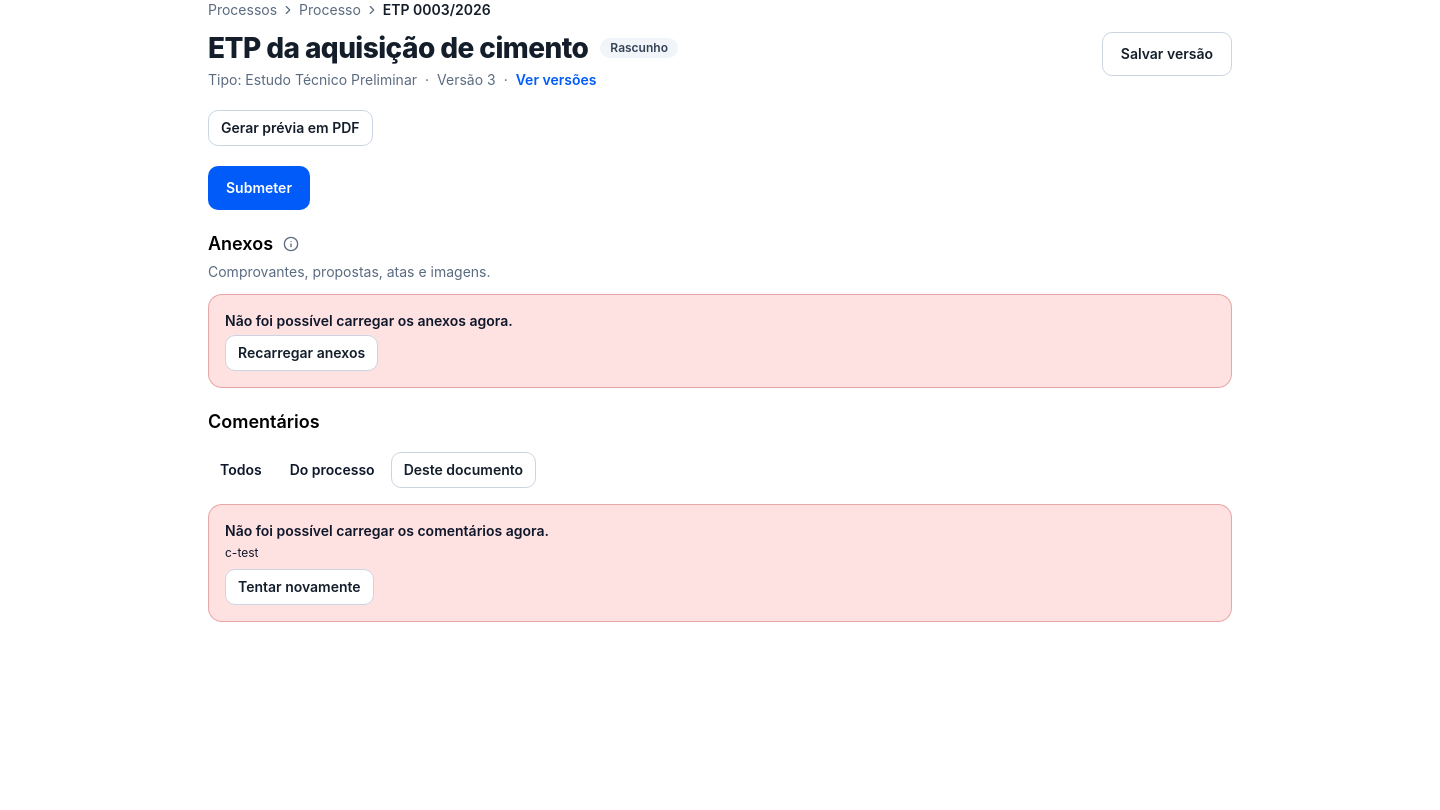
SCR-105 · Salvar versão (DOC-16) › documento não editável (409): toast com o motivo e o diálogo fecha
The width and height of the screenshot is (1440, 810).
expect the heading "ETP da aquisição de cimento" is shown: met, box 208,32 -> 588,64
What coordinates should you click on to do the following:
click the button "Salvar versão"
I would click on:
 (1167, 54)
Its box is 1102,32 -> 1232,76.
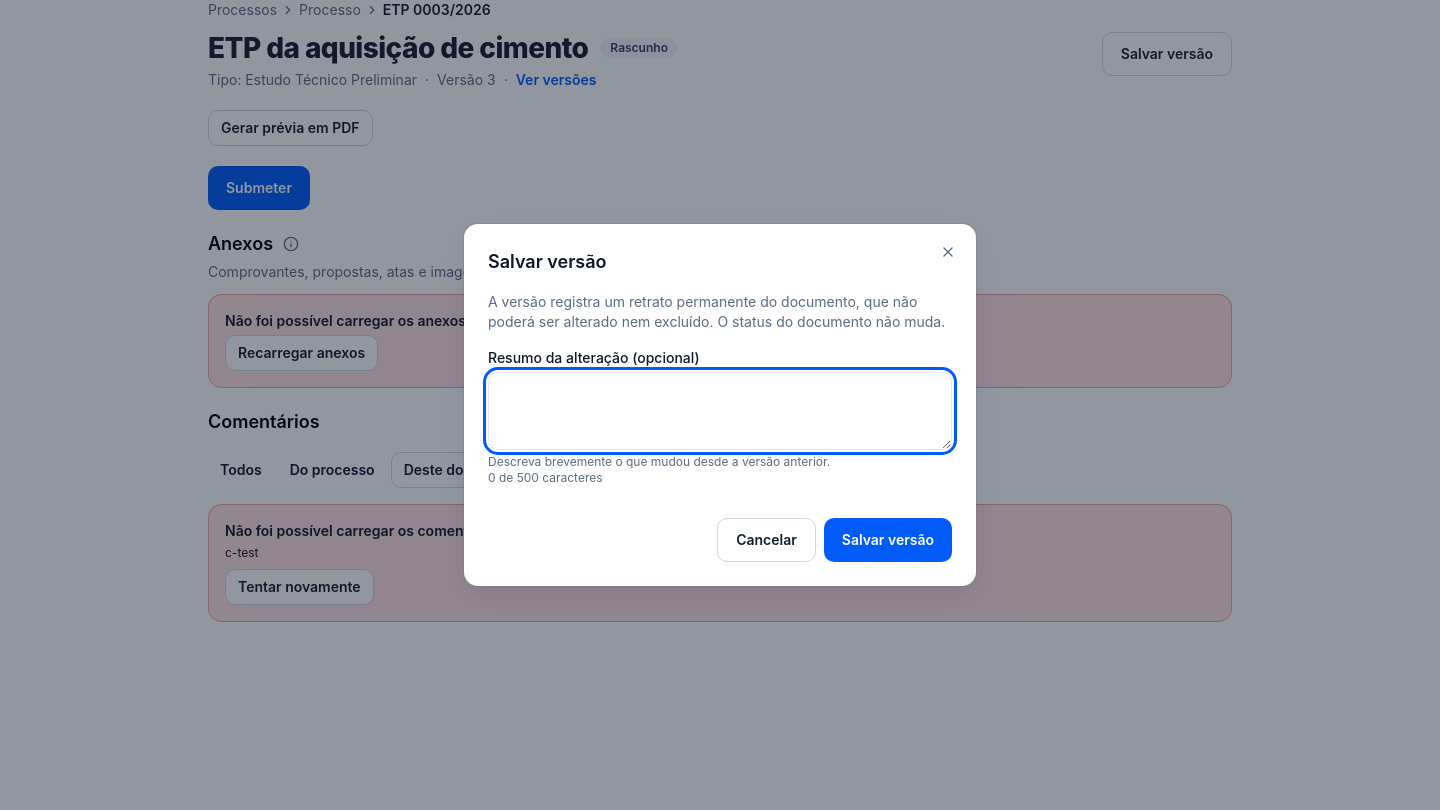
What coordinates should you click on to do the following:
click the button "Salvar versão"
I would click on:
 (888, 540)
Its box is 824,518 -> 952,562.
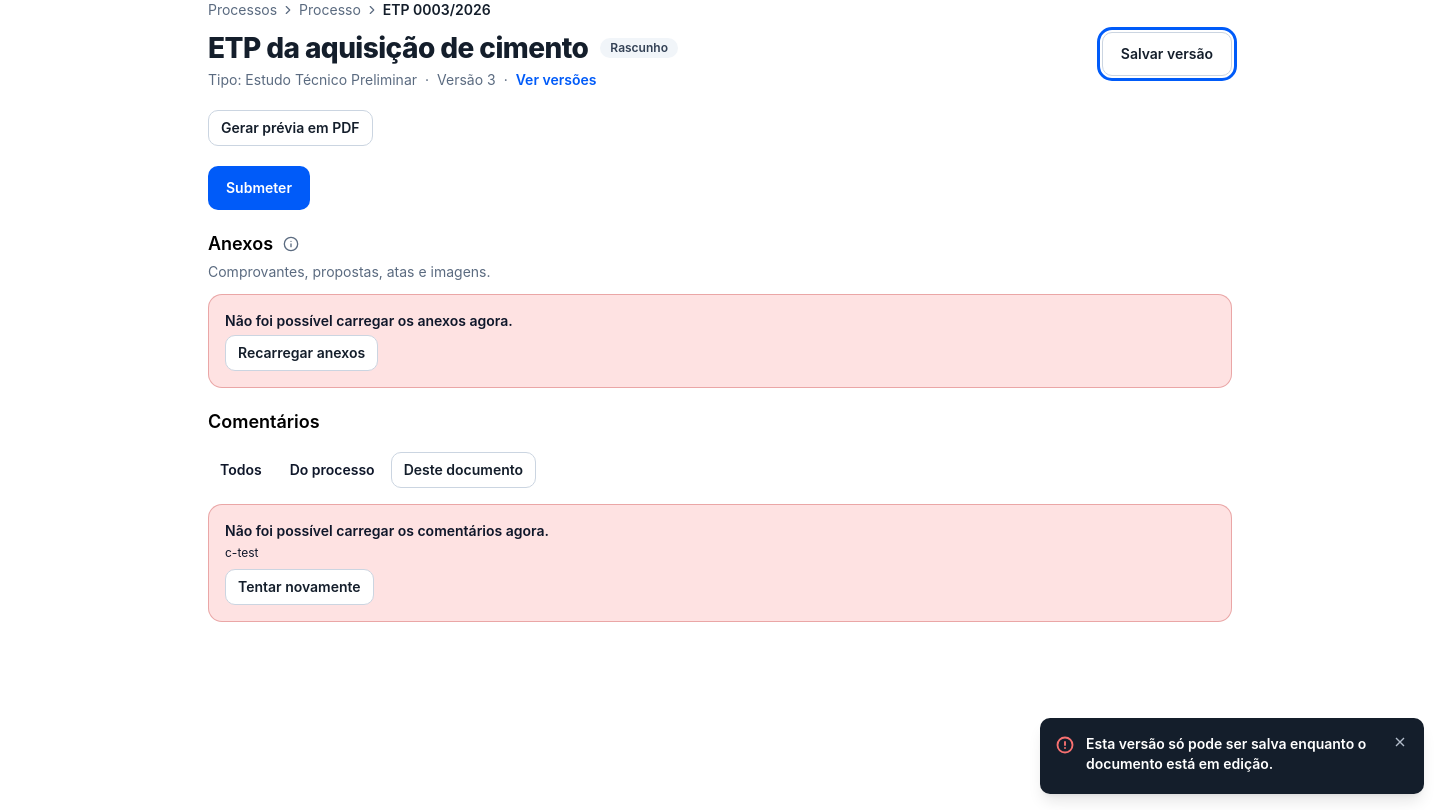
expect the text "Esta versão só pode ser salva enquanto o documento está em edição." is shown: met, box 1086,734 -> 1376,774
expect the dialog is gone: met
